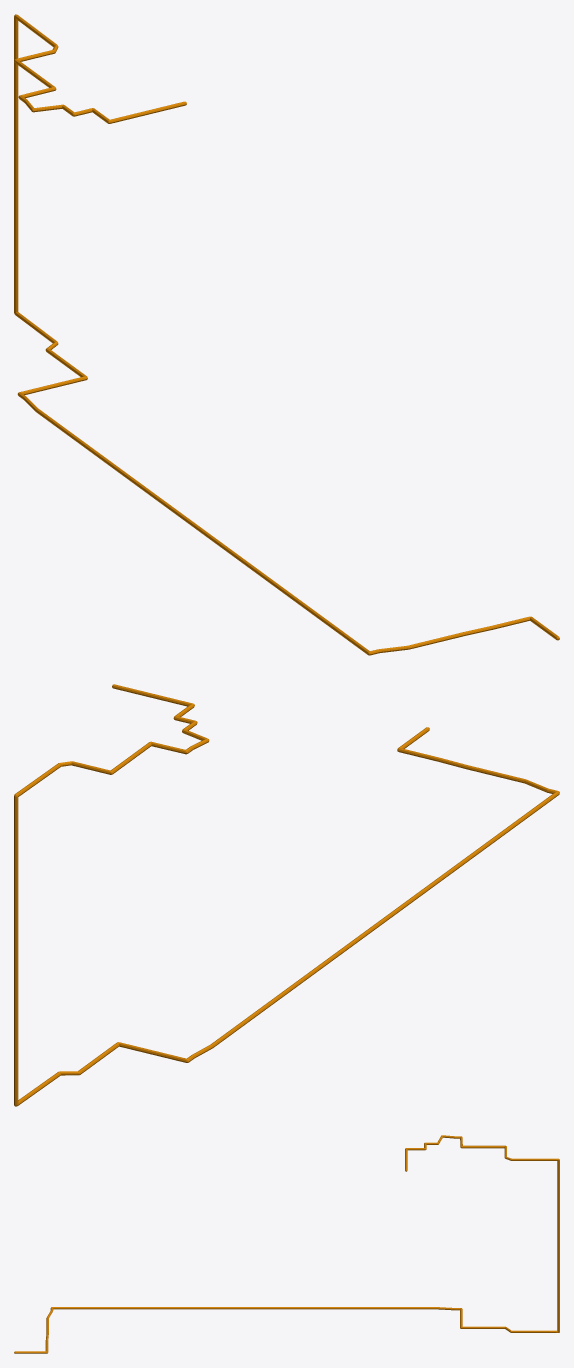
3 views of the same model, one above another, from view 1: azimuth 30°, elevation 25°; view 2: azimuth 150°, elevation 25°; view 3: azimuth 270°, elevation 25° (orthographic). The views are drawn at different scales.
Size of the model in its own units: 849 by 1520 by 4315.
